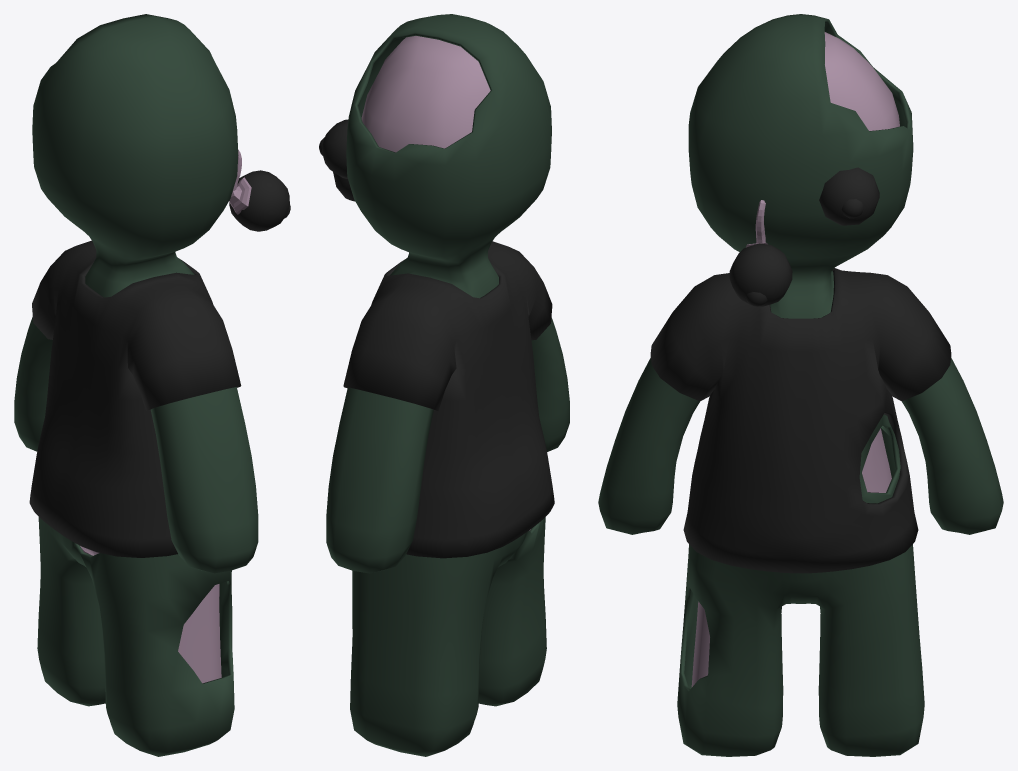
The model's file is zombi.fbx.
3 views of the same model, side by side, from view 1: azimuth 30°, elevation 25°; view 2: azimuth 150°, elevation 25°; view 3: azimuth 270°, elevation 25° (orthographic). The views are drawn at different scales.
Visible parts, largest first — view 1: body_zombie_boy, shirt_zombie_boy, pink_body_boy, eyes_zombie_boy, goop_boy; view 2: body_zombie_boy, shirt_zombie_boy, pink_body_boy, eyes_zombie_boy; view 3: body_zombie_boy, shirt_zombie_boy, pink_body_boy, eyes_zombie_boy.
Part boxes in pixels (x1,y1,x2,y2): body_zombie_boy: [14, 14, 258, 756]; shirt_zombie_boy: [29, 240, 241, 557]; pink_body_boy: [80, 546, 221, 683]; eyes_zombie_boy: [229, 170, 290, 231]; goop_boy: [229, 149, 251, 214]; body_zombie_boy: [326, 14, 569, 756]; shirt_zombie_boy: [343, 241, 554, 558]; pink_body_boy: [361, 36, 530, 530]; eyes_zombie_boy: [319, 119, 354, 201]; body_zombie_boy: [598, 14, 1003, 756]; shirt_zombie_boy: [650, 268, 951, 573]; pink_body_boy: [691, 32, 899, 687]; eyes_zombie_boy: [729, 167, 879, 306].
Size of the model in its own units: 241 by 733 by 376.
